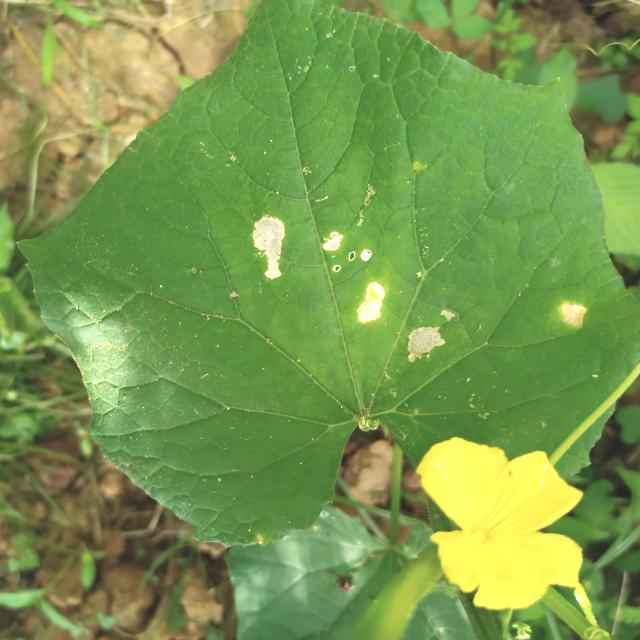disease_cucumber: (252, 214, 457, 365), (559, 299, 588, 332)
